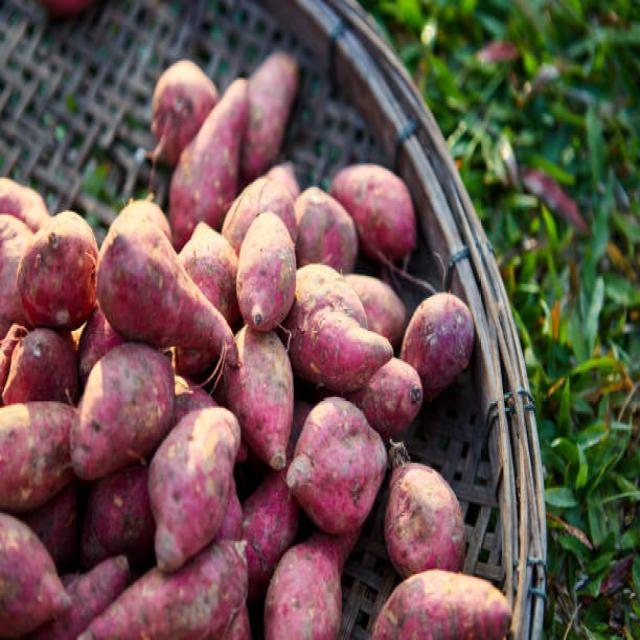sweet potato: (149, 406, 238, 565), (290, 398, 382, 530), (100, 217, 190, 347), (72, 347, 150, 474), (17, 209, 95, 331), (377, 570, 508, 640), (387, 457, 466, 572), (0, 517, 70, 633), (266, 541, 345, 640), (236, 331, 291, 470), (238, 209, 298, 329), (417, 293, 472, 397), (358, 166, 416, 259)
